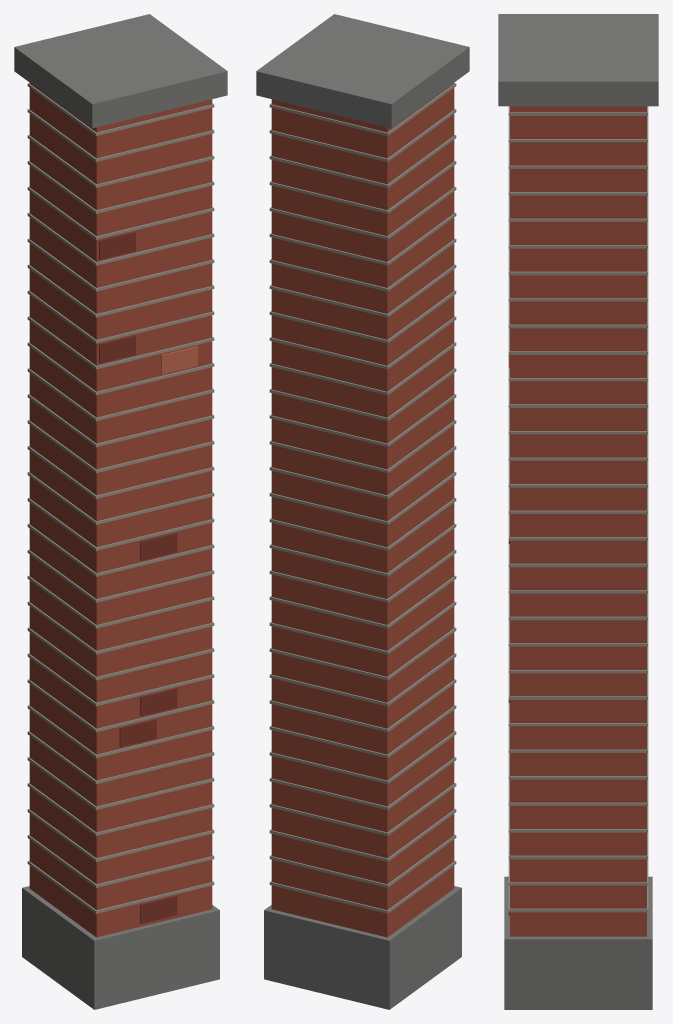
File: Mart_Wall_Corner.fbx
The picture shows the model from 3 angles, left to right: view 1: azimuth 30°, elevation 25°; view 2: azimuth 150°, elevation 25°; view 3: azimuth 270°, elevation 25°; orthographic projection. The views are drawn at different scales.
Parts seen in each view (by area): view 1: Mart_Wall_Corner; view 2: Mart_Wall_Corner; view 3: Mart_Wall_Corner.
Boxes of the visible parts, left/top/right/bottom form: Mart_Wall_Corner: left=14, top=14, right=227, bottom=1009; Mart_Wall_Corner: left=256, top=14, right=469, bottom=1009; Mart_Wall_Corner: left=498, top=14, right=658, bottom=1009.
Size of the model in its own units: 0.82 by 5.26 by 0.82.
1 material, 1 textured.
